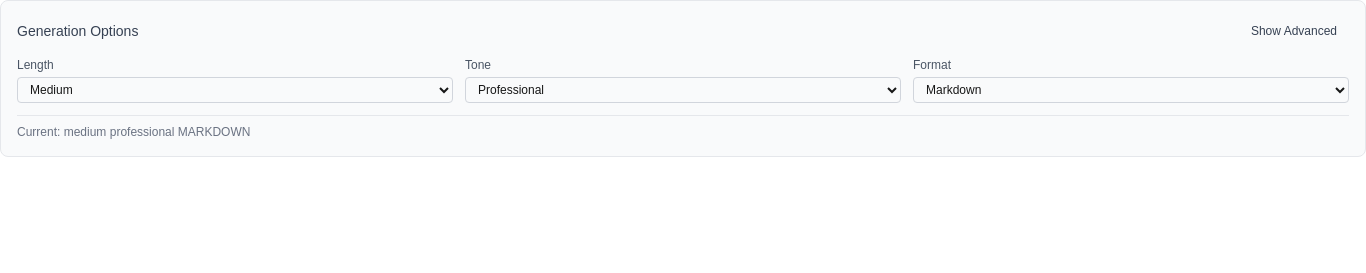
Test: Configuration Integration › should disable controls when processing
Expected: the dropdown below "Length" is disabled, [17, 77, 453, 103]
Expected: the dropdown below "Tone" is disabled, [465, 77, 901, 103]
Note: Show advanced options to access checkboxes
Click the button "Show Advanced".
click(1294, 31)  # box [1239, 17, 1349, 45]
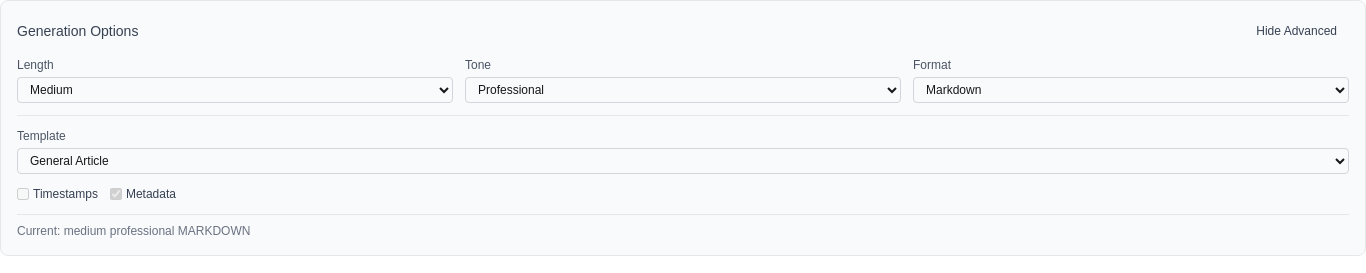
Result: the checkbox labelled "Timestamps" is disabled at [17, 188, 29, 200]
Result: the checkbox labelled "Metadata" is disabled at [110, 188, 122, 200]
